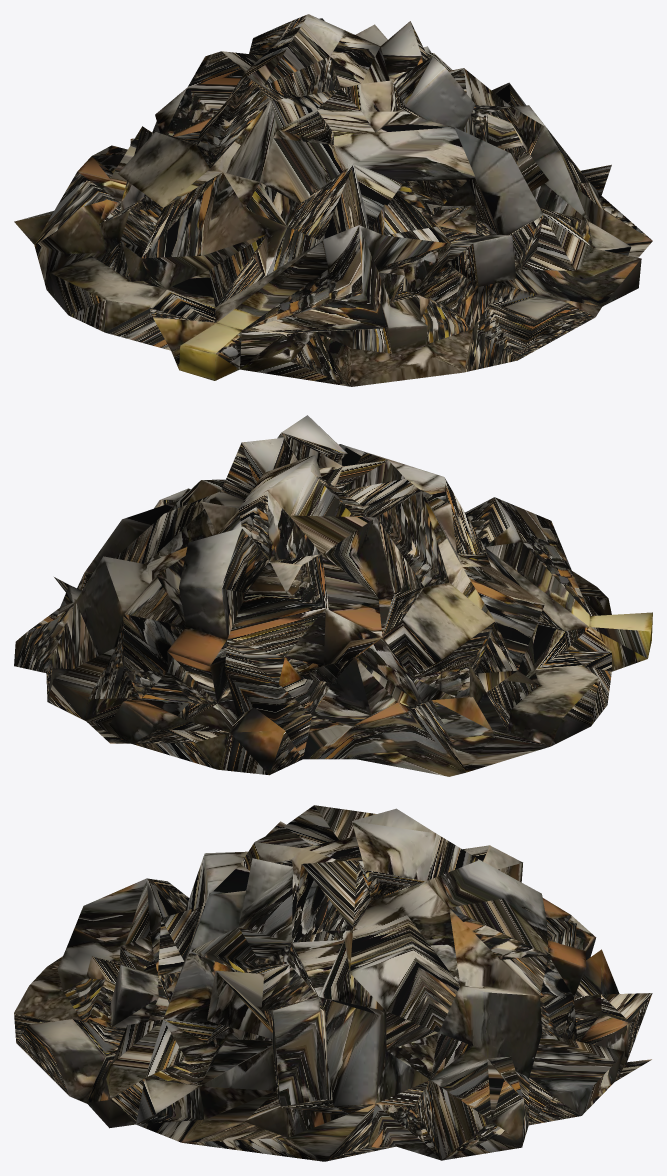
The model's file is Rubble_Pile.glb.
3 renders of one model, top to bottom at view 1: azimuth 30°, elevation 25°; view 2: azimuth 150°, elevation 25°; view 3: azimuth 270°, elevation 25°, orthographic. The views are drawn at different scales.
Visible parts, largest first — view 1: Rubble_Pile; view 2: Rubble_Pile; view 3: Rubble_Pile.
Part boxes in pixels (box(x1,y1,x2,y2)): Rubble_Pile: box(14, 14, 652, 386); Rubble_Pile: box(14, 415, 652, 776); Rubble_Pile: box(14, 805, 652, 1161).
Bounding box in the file's own units: 1.8 × 0.6767 × 1.77.
1 material, 1 textured.
